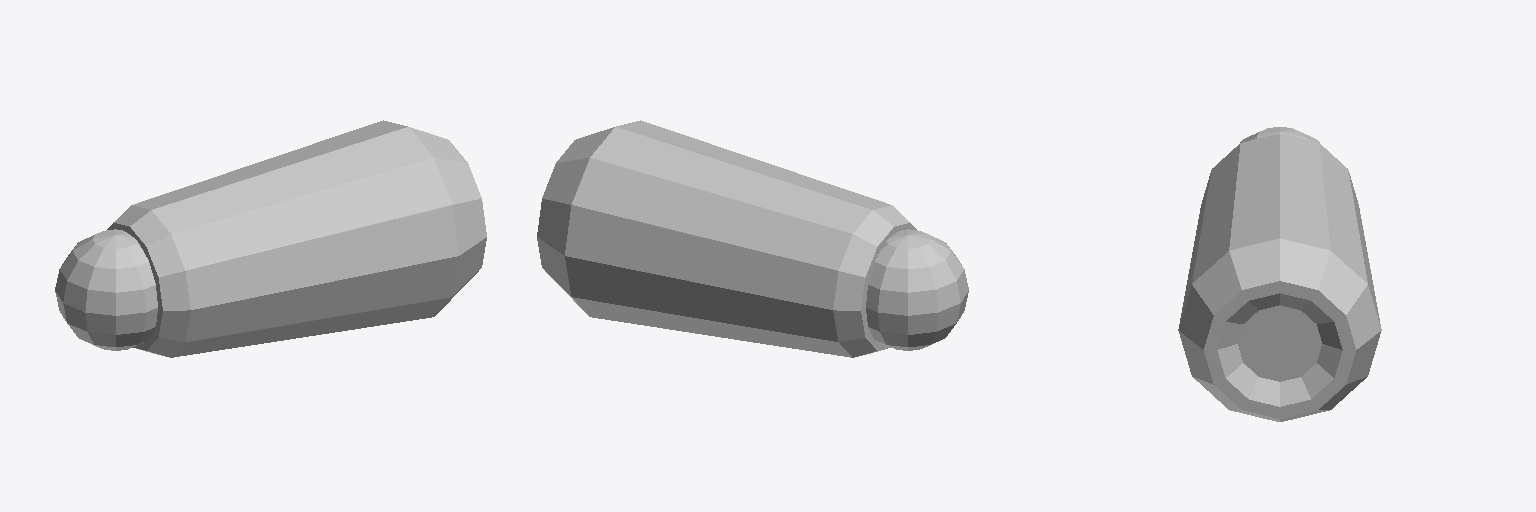
Rendered from leftArm2.obj.
3 renders of one model, left to right at view 1: azimuth 30°, elevation 25°; view 2: azimuth 150°, elevation 25°; view 3: azimuth 270°, elevation 25°, orthographic.
Parts seen in each view (by area): view 1: dummy_hips3_dummy_belly_dummy_torso_dummy_rshoulder_dummy_rarm, dummy_hips3_dummy_belly_dummy_torso_dummy_rshoulder_dummy_r.000; view 2: dummy_hips3_dummy_belly_dummy_torso_dummy_rshoulder_dummy_rarm, dummy_hips3_dummy_belly_dummy_torso_dummy_rshoulder_dummy_r.000; view 3: dummy_hips3_dummy_belly_dummy_torso_dummy_rshoulder_dummy_rarm.
Boxes of the visible parts, x1,y1,x2,y2 form: dummy_hips3_dummy_belly_dummy_torso_dummy_rshoulder_dummy_rarm: [107, 120, 486, 357]; dummy_hips3_dummy_belly_dummy_torso_dummy_rshoulder_dummy_r.000: [55, 229, 157, 350]; dummy_hips3_dummy_belly_dummy_torso_dummy_rshoulder_dummy_rarm: [537, 120, 916, 357]; dummy_hips3_dummy_belly_dummy_torso_dummy_rshoulder_dummy_r.000: [866, 229, 968, 350]; dummy_hips3_dummy_belly_dummy_torso_dummy_rshoulder_dummy_rarm: [1178, 134, 1381, 421].
Size of the model in its own units: 28.64 by 13.07 by 13.07.